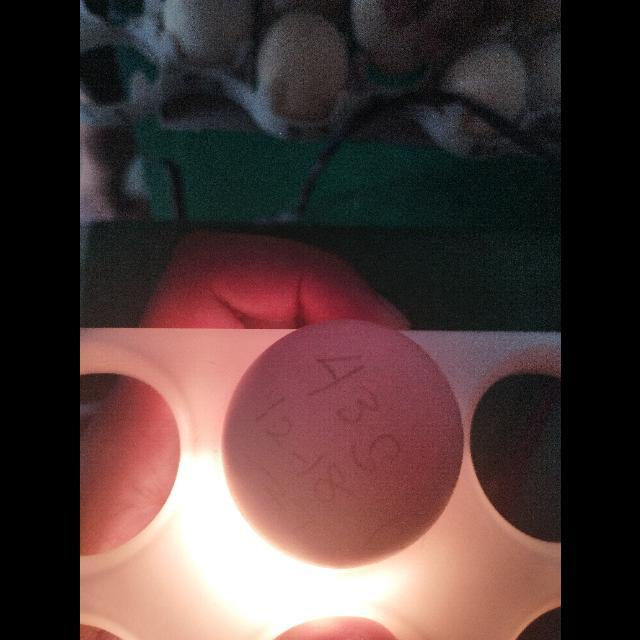Fertile: (217, 314, 467, 572)
